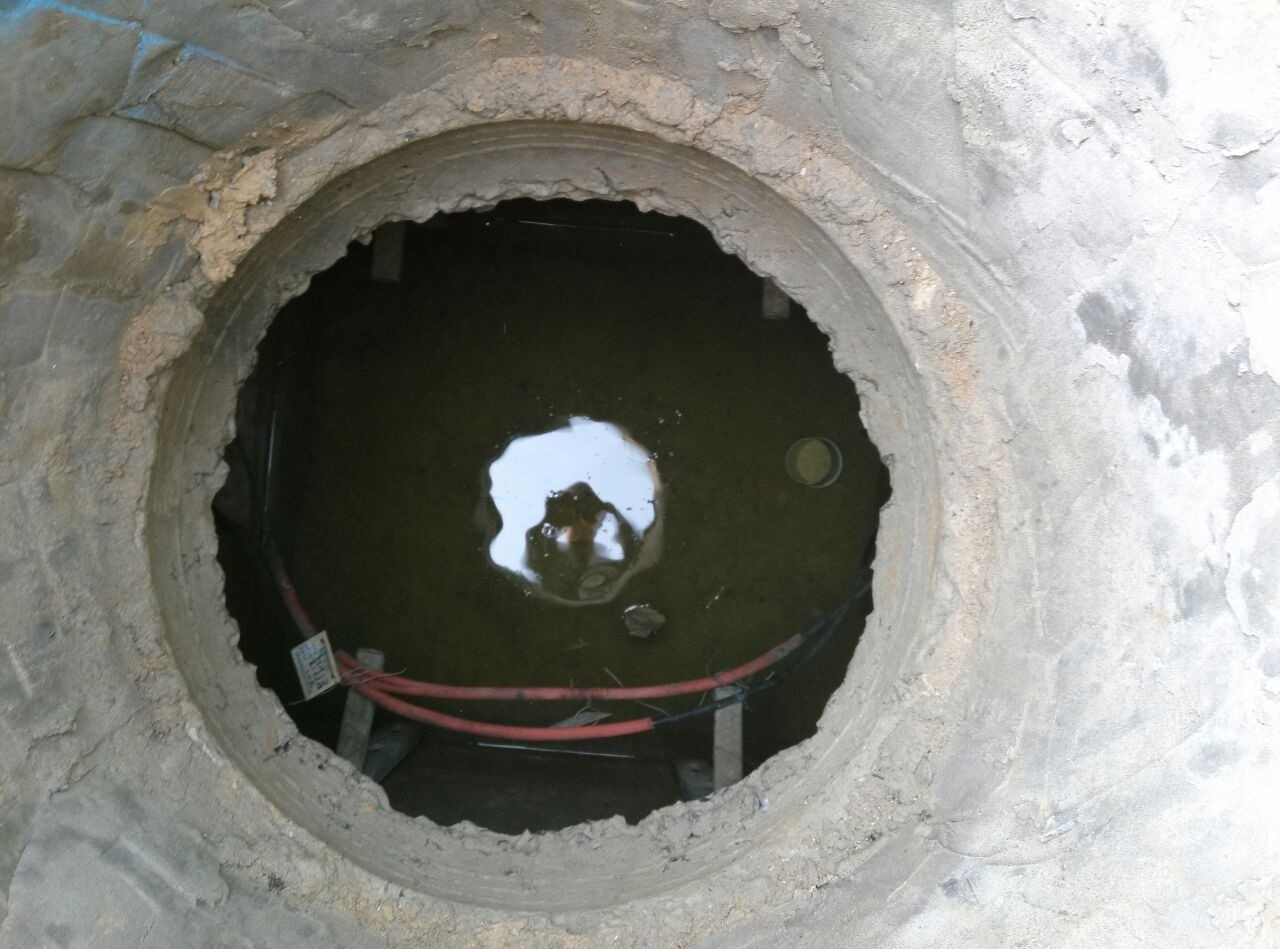lose: (107, 68, 989, 946)
